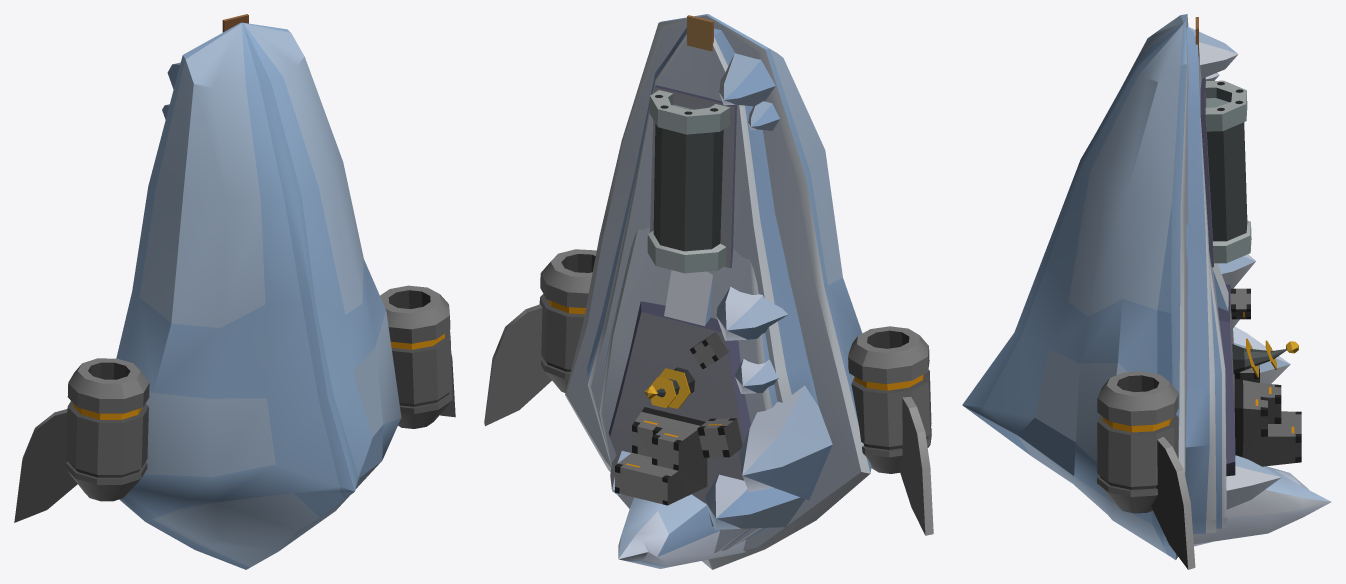
The model's file is HerbertBaseMini.fbx.
3 renders of one model, left to right at view 1: azimuth 30°, elevation 25°; view 2: azimuth 150°, elevation 25°; view 3: azimuth 270°, elevation 25°, orthographic. The views are drawn at different scales.
Visible parts, largest first — view 1: herbertMiniBase, herbertMiniBaseRocketA, herbertMiniBaseRocketB; view 2: herbertMiniBase, herbertMiniBaseRocketA, herbertMiniBaseRocketB; view 3: herbertMiniBase, herbertMiniBaseRocketB.
Boxes of the visible parts, x1=… form: herbertMiniBase: x1=116, y1=14, x2=401, y2=569; herbertMiniBaseRocketA: x1=14, y1=358, x2=149, y2=522; herbertMiniBaseRocketB: x1=380, y1=285, x2=455, y2=428; herbertMiniBase: x1=565, y1=14, x2=871, y2=569; herbertMiniBaseRocketA: x1=848, y1=326, x2=933, y2=535; herbertMiniBaseRocketB: x1=484, y1=249, x2=596, y2=426; herbertMiniBase: x1=962, y1=14, x2=1331, y2=559; herbertMiniBaseRocketB: x1=1097, y1=371, x2=1195, y2=569.
Bounding box in the file's own units: 358 × 423 × 264.
